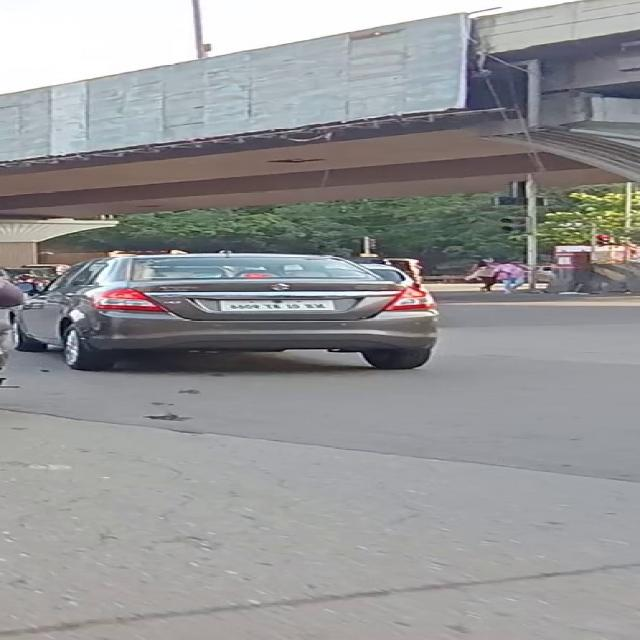license_plate: (206, 298, 343, 317)
